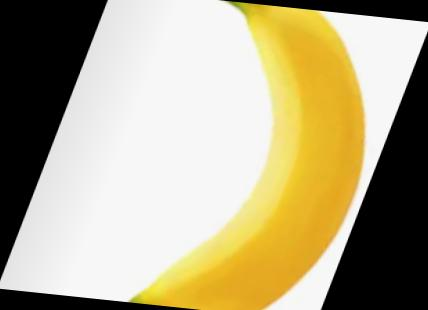Banana Ripe: (51, 0, 388, 310)
